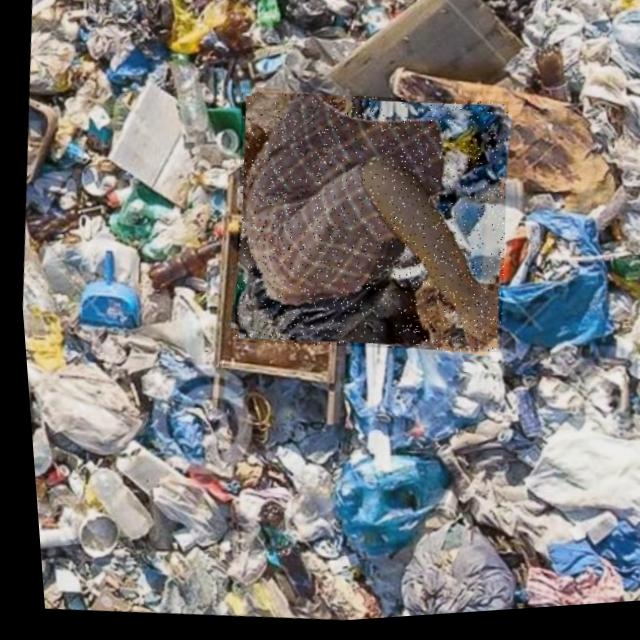Person in Rubble: (214, 80, 521, 371)
